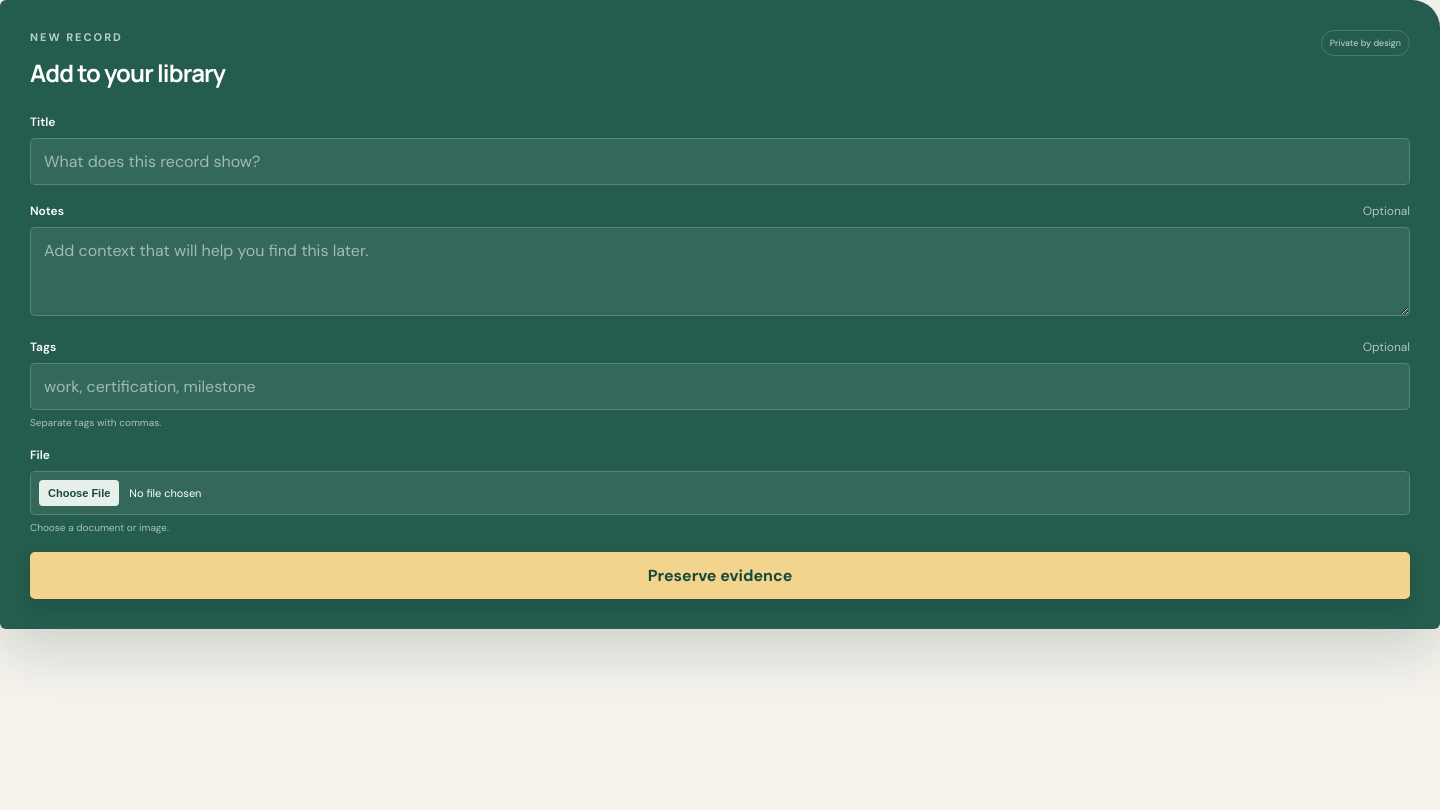
Test case: EvidenceForm › has accessible fields and reports required values
The image size is (1440, 810).
Expected: the field labelled "Title" is shown, [30,138,1410,185]
Expected: the text box labelled "Notes Optional" is shown, [30,227,1410,316]
What coordinates should you click on to do the following:
click the button "Preserve evidence"
I would click on:
 (720, 576)
Its box is [30,552,1410,599].
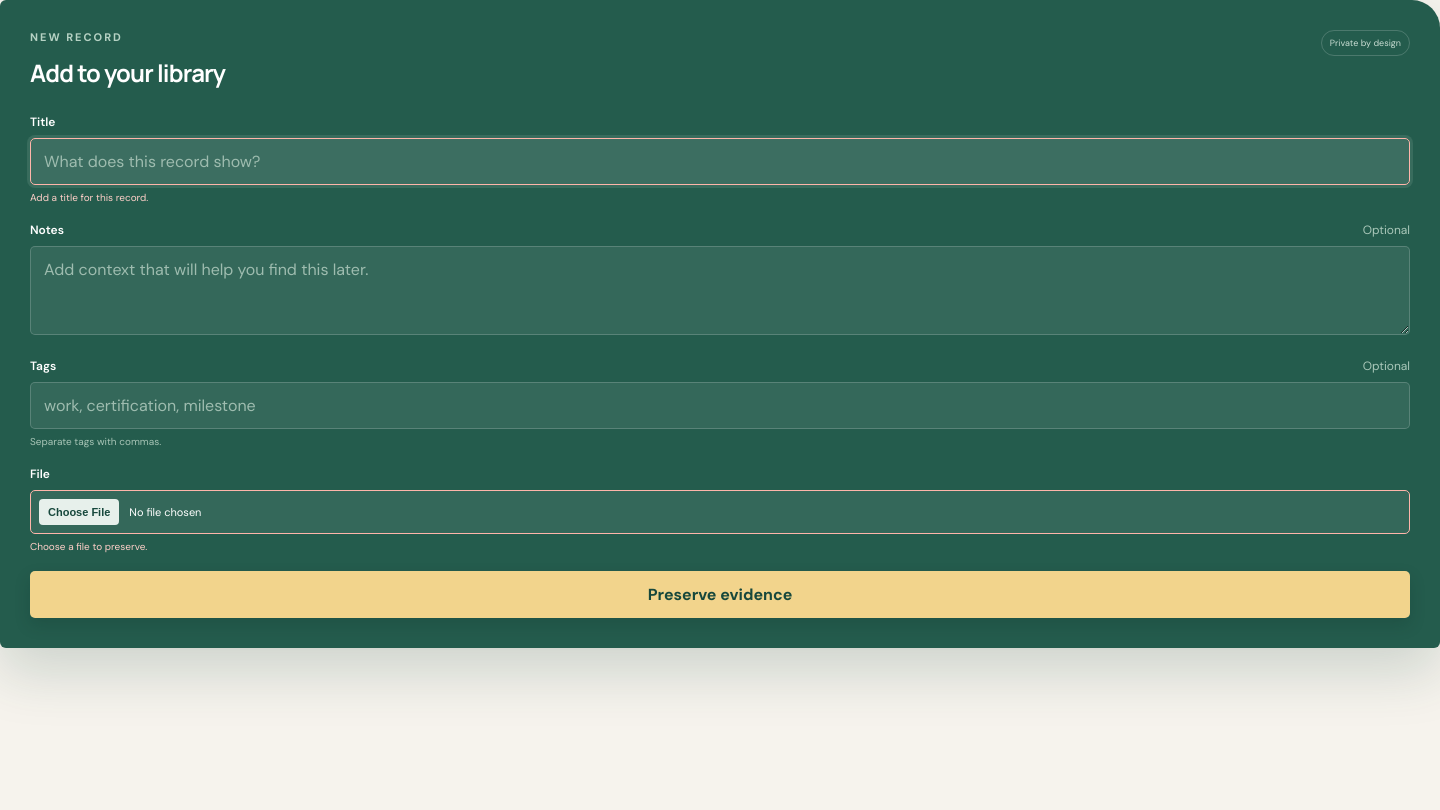
Result: the text "Add a title for this record." is shown at [30,191,148,204]
Result: the text "Choose a file to preserve." is shown at [30,540,147,553]
